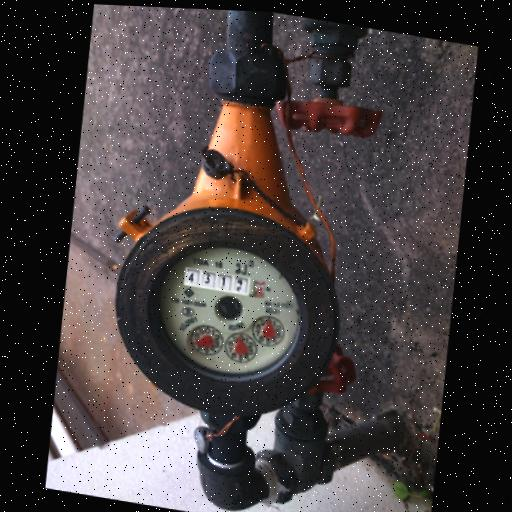1: (217, 274, 232, 290)
3: (202, 272, 216, 287)
4: (234, 277, 249, 293), (186, 269, 200, 285), (252, 280, 265, 297)
border_water_meter_number: (182, 267, 267, 300)
